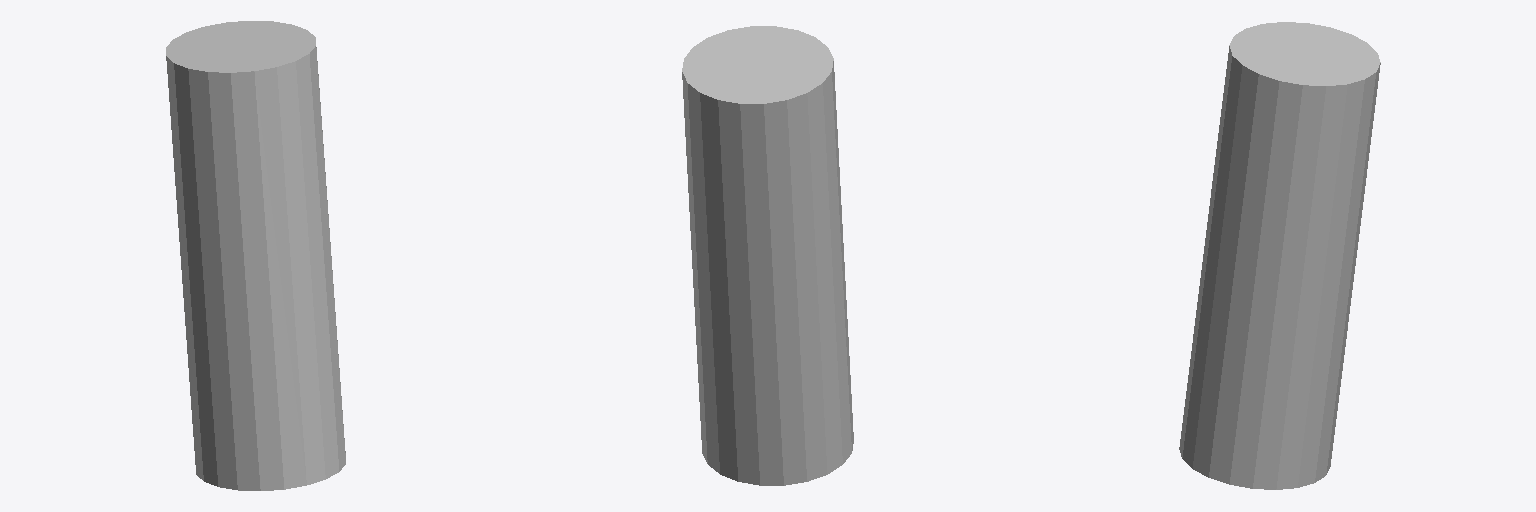
The model's file is 3proxph_skin.obj.
The picture shows the model from 3 angles: view 1: azimuth 30°, elevation 25°; view 2: azimuth 150°, elevation 25°; view 3: azimuth 270°, elevation 25°; orthographic projection.
Size of the model in its own units: 0.0144 by 0.0419 by 0.0183.